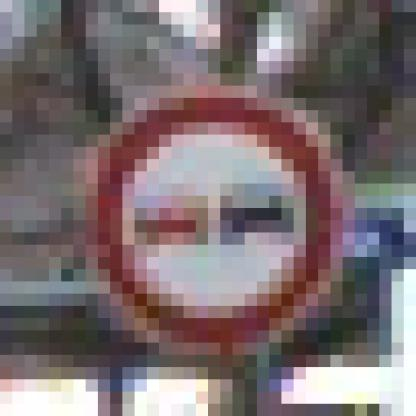No Overtaking: (74, 62, 356, 356)
